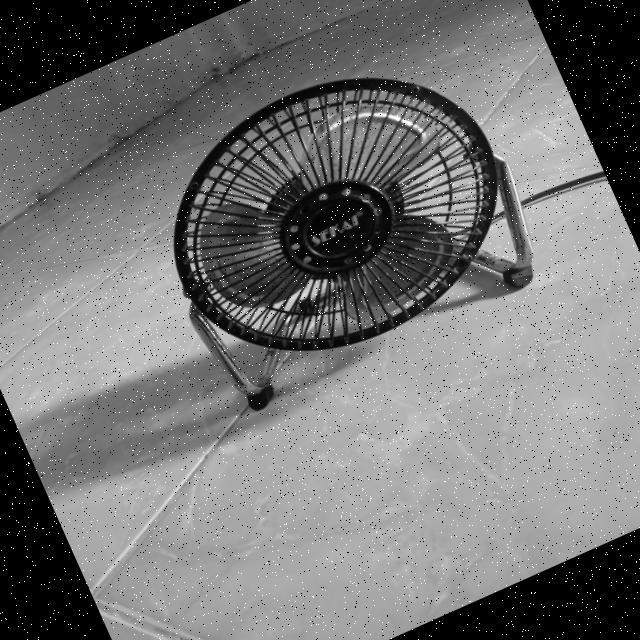fan: (119, 29, 554, 418)
